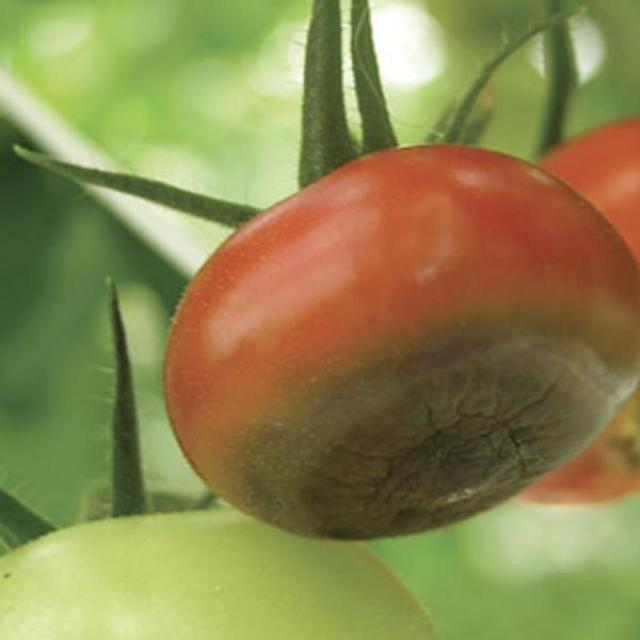Blossom End Rot Fruit: (142, 203, 427, 356)
